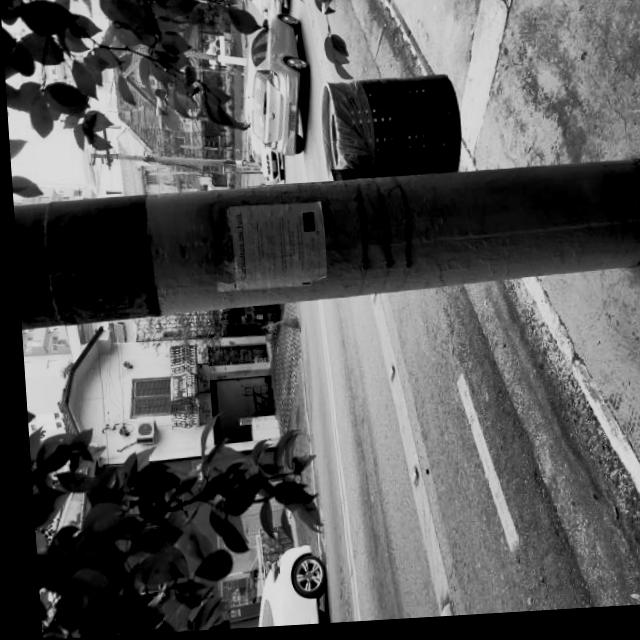qr_code: (300, 215, 311, 235)
